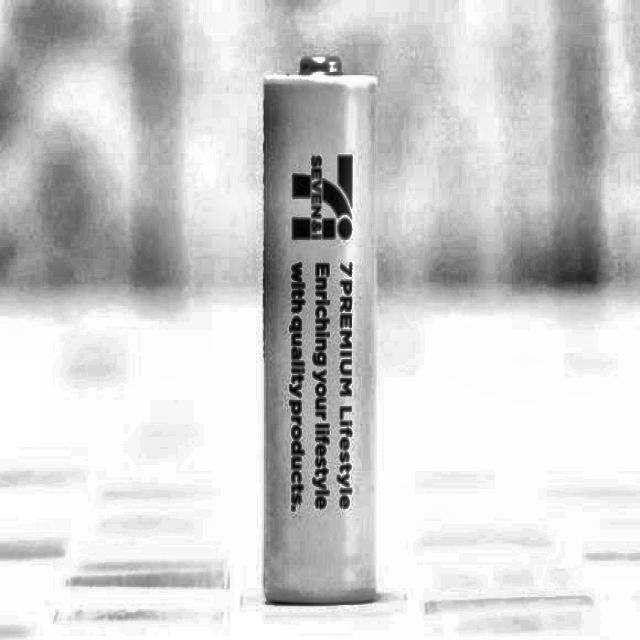drycell: (255, 54, 386, 606)
